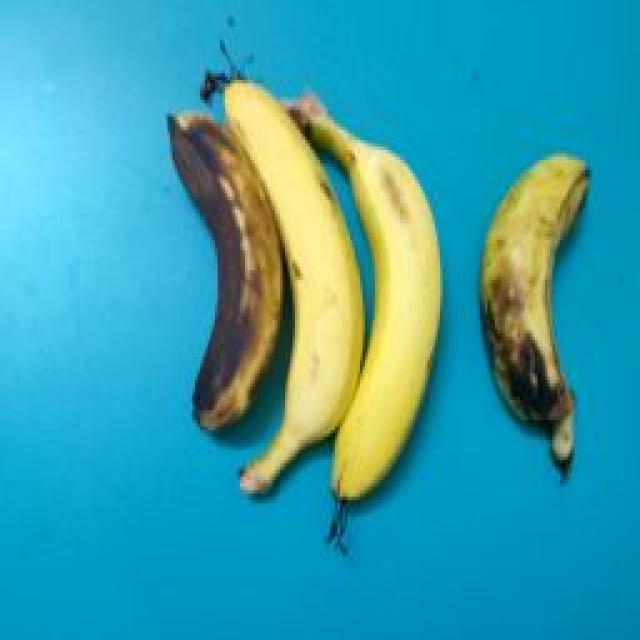Organik: (205, 56, 365, 498), (296, 79, 452, 513), (152, 92, 284, 446), (478, 123, 604, 470)
